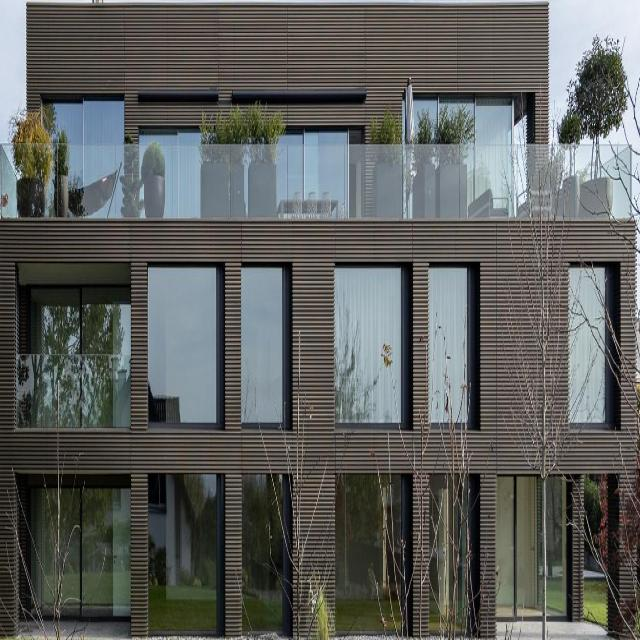railing: (1, 141, 631, 219), (16, 355, 133, 436)
window: (27, 484, 137, 608), (333, 270, 408, 422), (149, 475, 218, 636), (335, 478, 404, 638), (149, 265, 219, 421), (497, 477, 570, 623), (429, 483, 478, 636), (431, 266, 477, 423), (245, 477, 289, 634), (244, 268, 285, 427), (570, 272, 610, 427), (409, 98, 515, 142), (44, 307, 114, 358), (46, 104, 125, 137)
